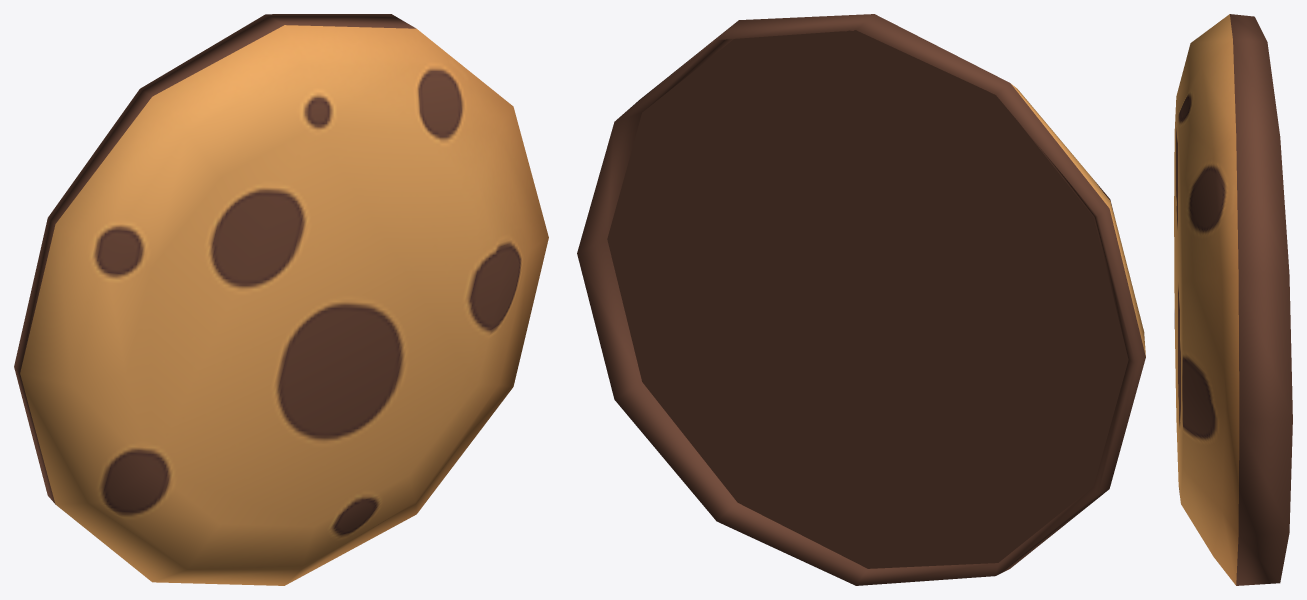
The model's file is brown_cookie.glb.
3 views of the same model, side by side, from view 1: azimuth 30°, elevation 25°; view 2: azimuth 150°, elevation 25°; view 3: azimuth 270°, elevation 25° (orthographic). The views are drawn at different scales.
Parts seen in each view (by area): view 1: Brown_Cookie; view 2: Brown_Cookie; view 3: Brown_Cookie.
Part boxes in pixels (<box>): Brown_Cookie: <box>14,14,548,585</box>; Brown_Cookie: <box>577,14,1145,585</box>; Brown_Cookie: <box>1174,14,1292,585</box>.
Bounding box in the file's own units: 0.519 × 0.5192 × 0.1075.
Materials: 1 (1 with a texture image).
